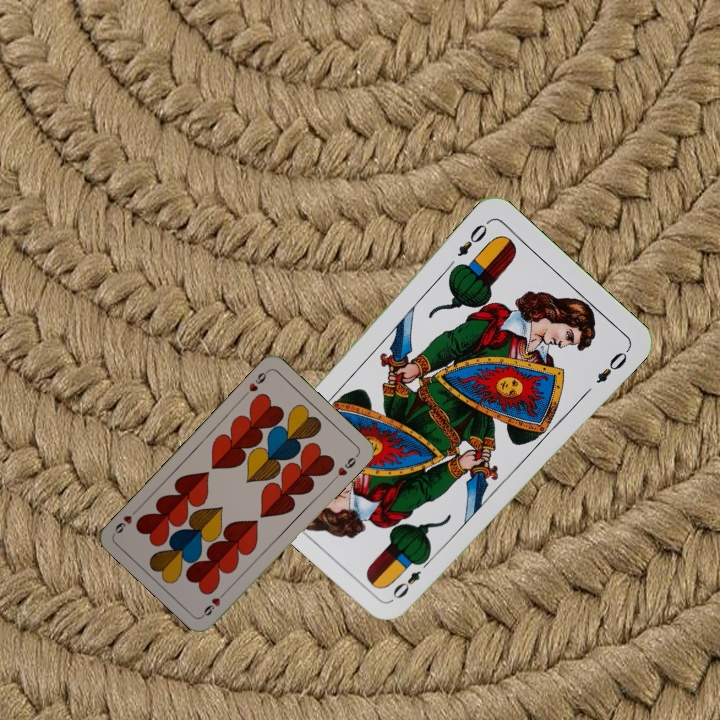EO: (388, 554, 434, 602), (453, 220, 490, 260)
H9: (198, 587, 230, 619), (240, 366, 271, 399)
